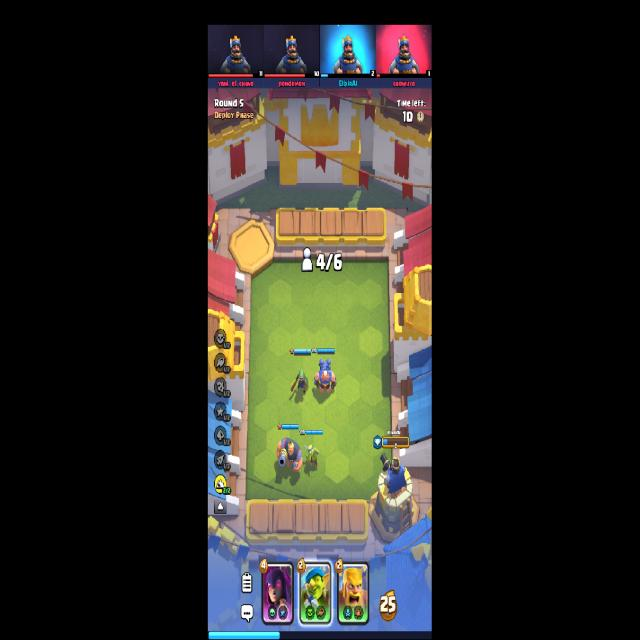bandit: (291, 369, 308, 395)
card_barbarian: (337, 560, 369, 626)
card_spear_goblin: (299, 560, 332, 625)
card_witch: (262, 560, 294, 625)
electro_giant: (314, 359, 338, 394)
royal_giant: (276, 438, 302, 472)
spear_goblin: (306, 445, 320, 470)
